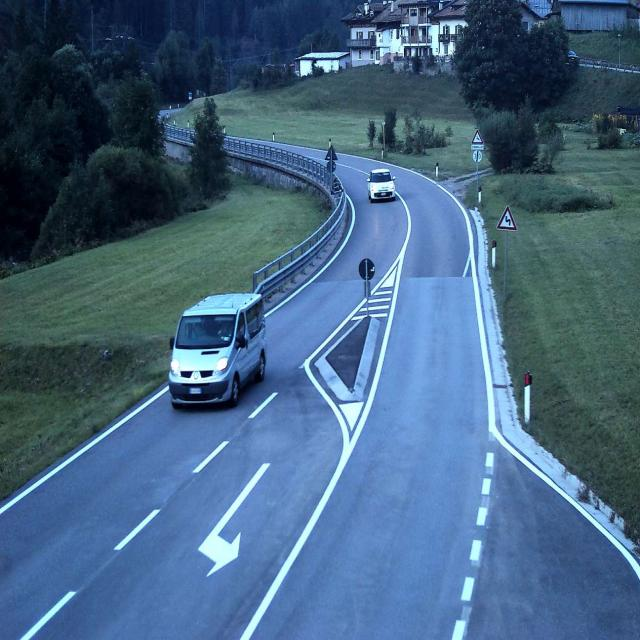car: (168, 291, 268, 408), (366, 168, 396, 202)
